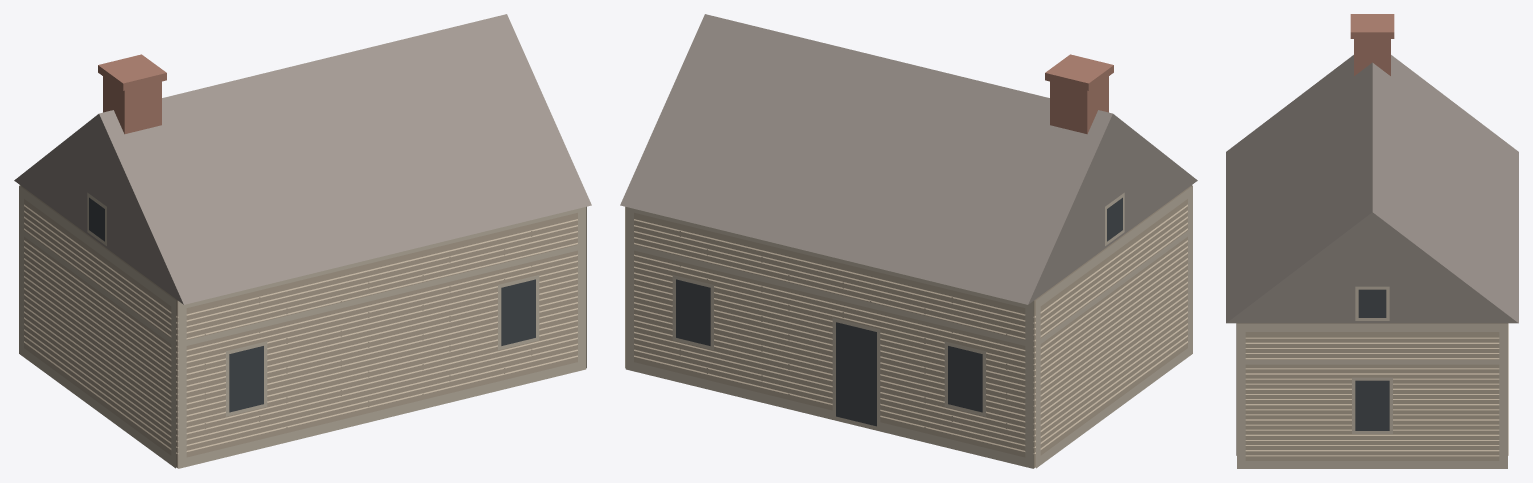
The model's file is watkins_school_house__house_1833.glb.
3 views of the same model, side by side, from view 1: azimuth 30°, elevation 25°; view 2: azimuth 150°, elevation 25°; view 3: azimuth 270°, elevation 25° (orthographic). The views are drawn at different scales.
Visible parts, largest first — view 1: watkins_school_house__house_1833; view 2: watkins_school_house__house_1833; view 3: watkins_school_house__house_1833.
Part boxes in pixels (bbox=[...]): watkins_school_house__house_1833: bbox=[14, 14, 591, 468]; watkins_school_house__house_1833: bbox=[620, 14, 1197, 468]; watkins_school_house__house_1833: bbox=[1226, 14, 1518, 468].
Bounding box in the file's own units: 9.24 × 7.15 × 6.6.
